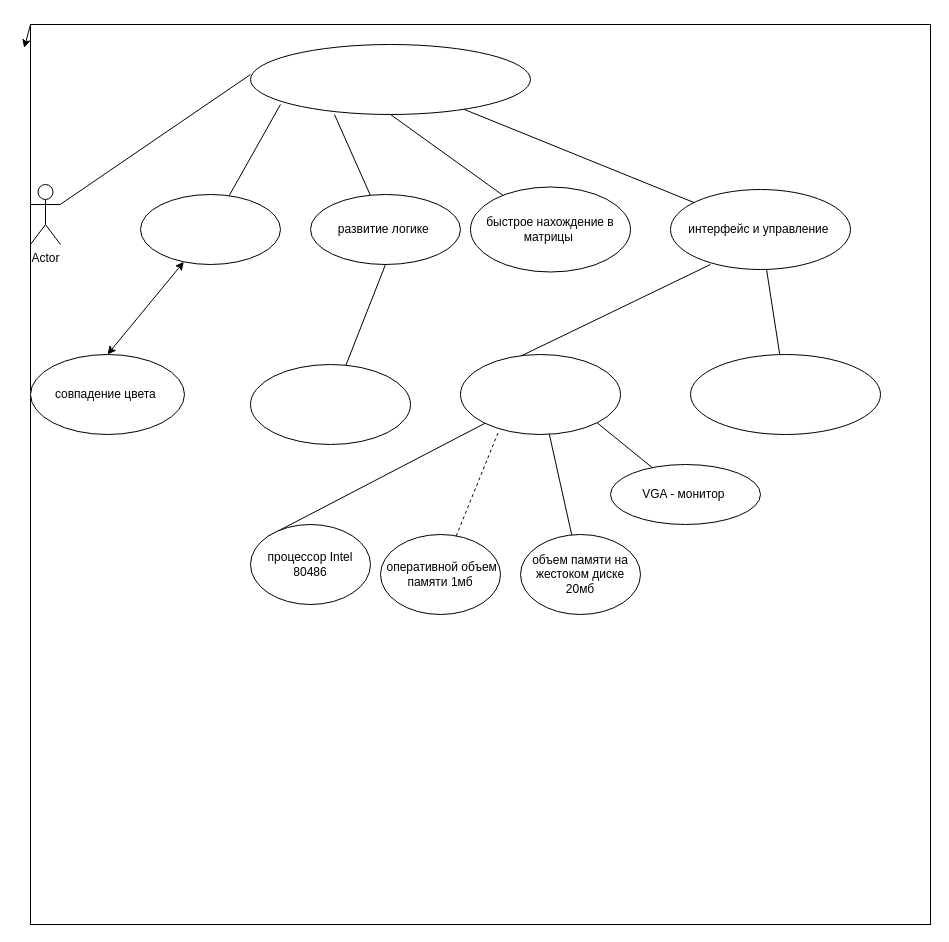
The diagram is 949 pixels wide and 942 high, and some of its shapes have lost their labels. The shapes that lost their labels are listed below. From the top down, each one's centre as x and y in pixels, then its label:
At (390,79): "Color ball".
At (210,229): "различие цветов".
At (330,404): "время".
At (540,394): "компьютер IBC PC".
At (785,394): "клавиатура и мышь".
